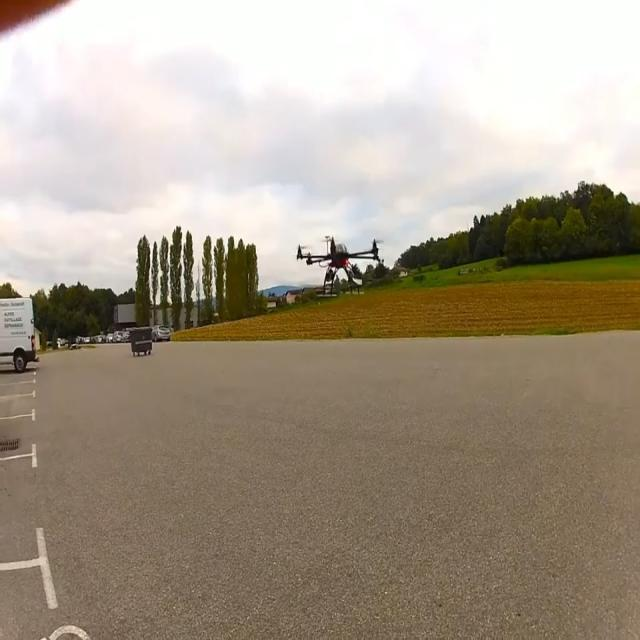drone: (295, 234, 384, 295)
